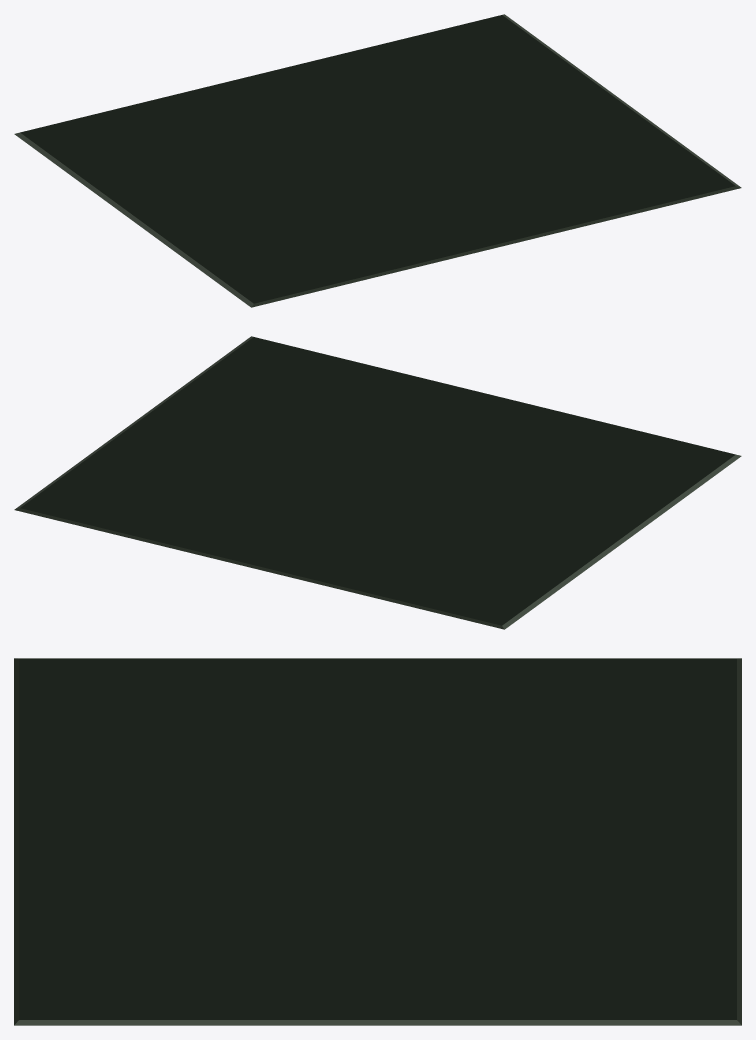
Rendered from SF_Env_FarmDirt_02.glb.
3 views of the same model, one above another, from view 1: azimuth 30°, elevation 25°; view 2: azimuth 150°, elevation 25°; view 3: azimuth 270°, elevation 25° (orthographic). The views are drawn at different scales.
Parts seen in each view (by area): view 1: SF_Env_FarmDirt_02; view 2: SF_Env_FarmDirt_02; view 3: SF_Env_FarmDirt_02.
Boxes of the visible parts, <box> form: SF_Env_FarmDirt_02: <box>14,14,741,307</box>; SF_Env_FarmDirt_02: <box>14,336,741,629</box>; SF_Env_FarmDirt_02: <box>14,658,741,1025</box>.
Bounding box in the file's own units: 0.2593 × 0.000847 × 0.2172.
Materials: 1 (1 with a texture image).
